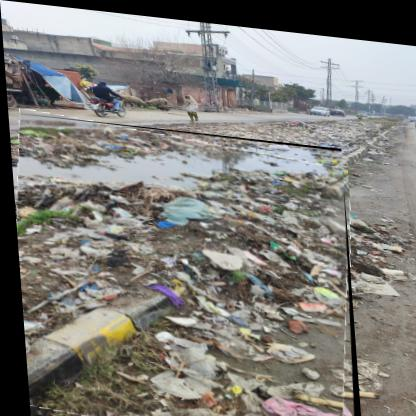Garbage: (7, 113, 360, 416)
